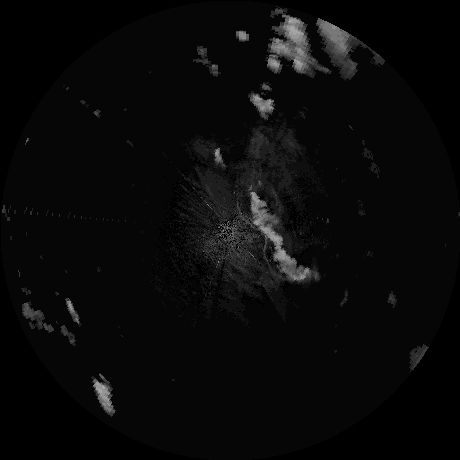frontgust: (262, 235, 292, 281), (235, 196, 259, 228), (267, 180, 286, 218)
